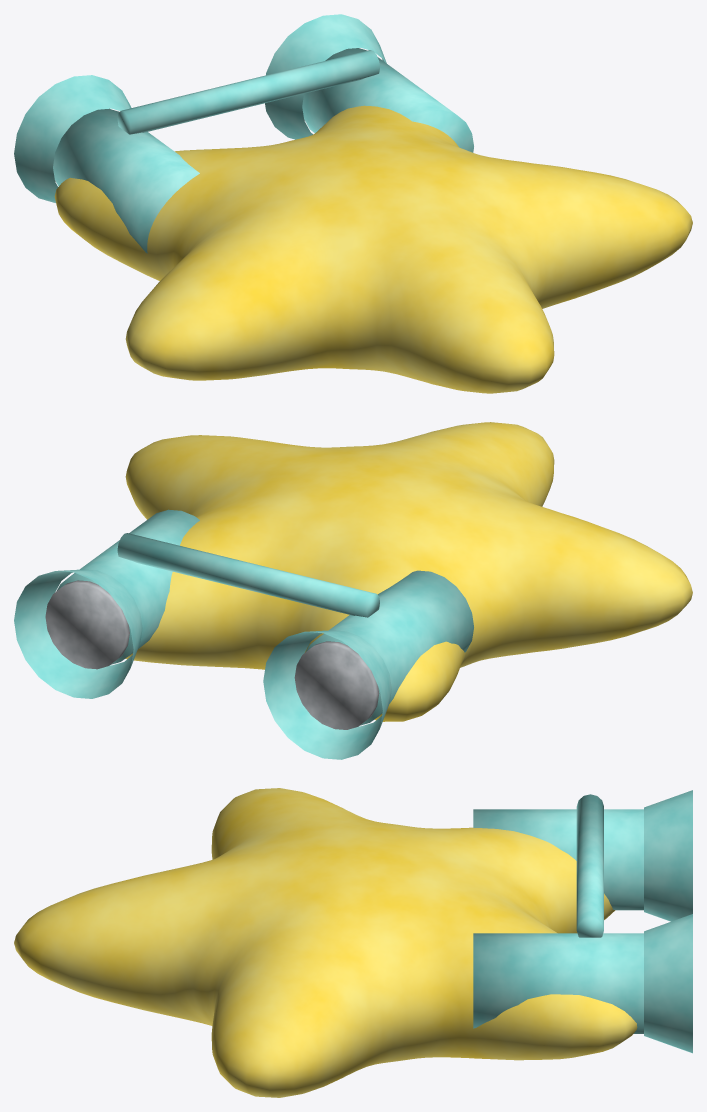
File: planeta2_warpstar.obj
The picture shows the model from 3 angles, top to bottom: view 1: azimuth 30°, elevation 25°; view 2: azimuth 150°, elevation 25°; view 3: azimuth 270°, elevation 25°; orthographic projection.
Visible parts, largest first — view 1: planeta2_warpstar; view 2: planeta2_warpstar; view 3: planeta2_warpstar.
Part boxes in pixels (x1,y1,x2,y2): planeta2_warpstar: [14, 14, 692, 393]; planeta2_warpstar: [14, 422, 692, 759]; planeta2_warpstar: [14, 788, 692, 1097].
Size of the model in its own units: 3.34 by 1 by 3.48.
